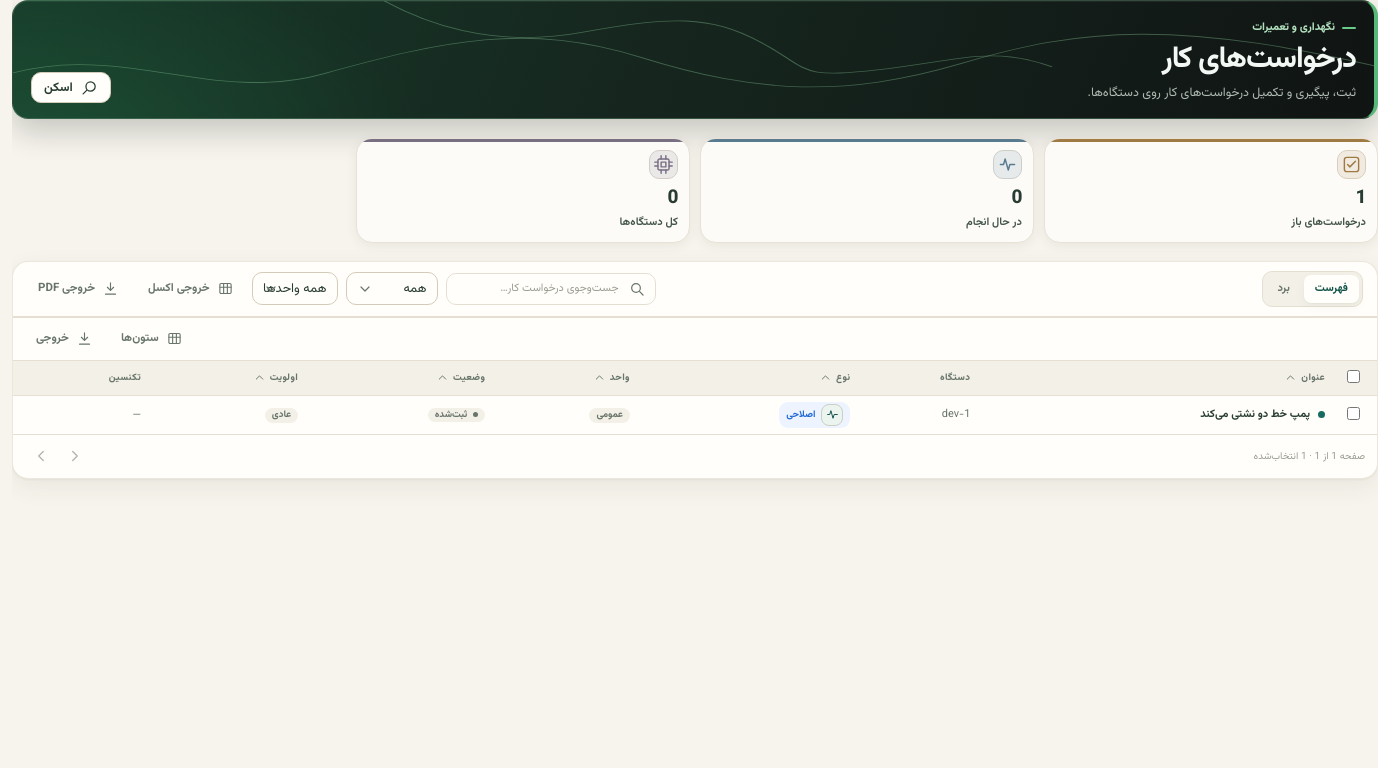
work order escalation — ارجاع پله‌به‌پله › keeps the work-order board and exposes all workflow statuses in one scrollable view
Click the tab "برد" at (1284, 289), box [1266,275,1301,303]
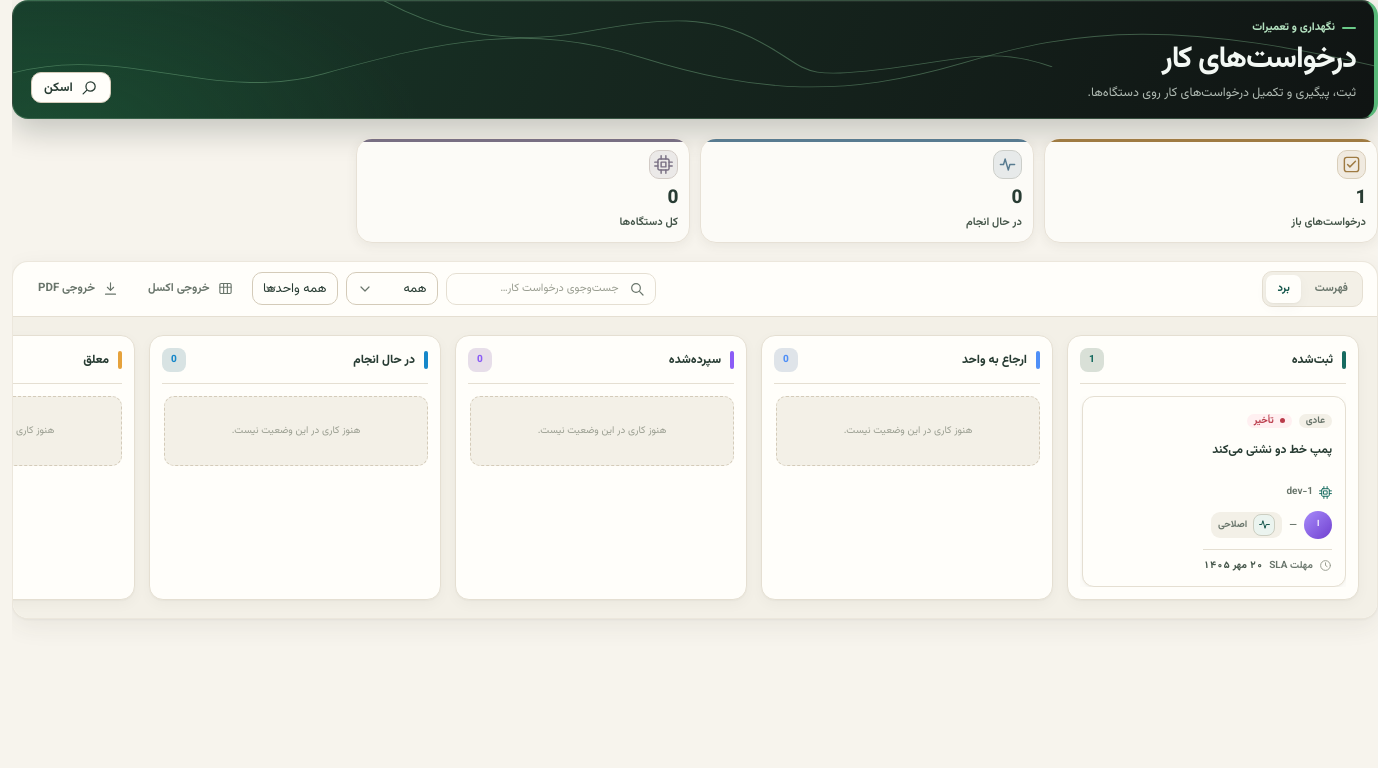
Check: the text "تأخیر" is shown, box [1247,414,1292,428]
Check: the text "مهلت SLA" is shown, box [1269,558,1313,573]
